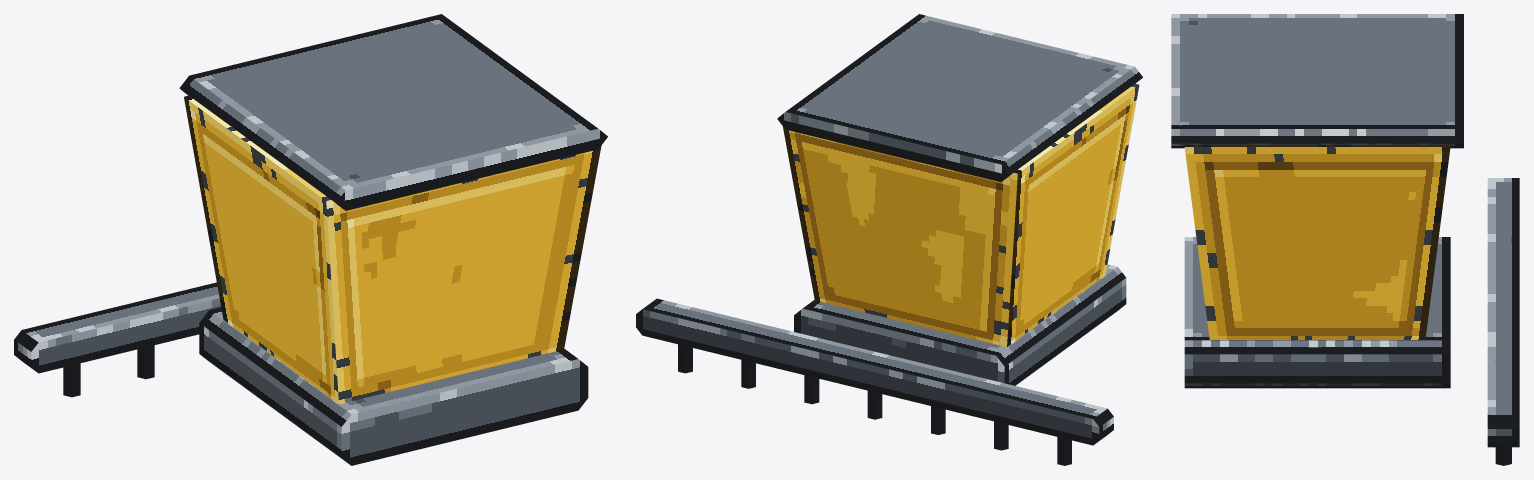
The model's file is cy_hopper.glb.
3 renders of one model, left to right at view 1: azimuth 30°, elevation 25°; view 2: azimuth 150°, elevation 25°; view 3: azimuth 270°, elevation 25°, orthographic. The views are drawn at different scales.
Visible parts, largest first — view 1: bin, lid, frame, boom; view 2: bin, lid, boom, frame; view 3: bin, lid, frame, boom.
Boxes of the visible parts, x1,y1,x2,y2 form: bin: (184,95,601,404); lid: (179,14,607,210); frame: (199,307,588,465); boom: (14,282,220,373); bin: (783,83,1139,346); lid: (777,14,1142,181); boom: (636,298,1113,445); frame: (794,264,1126,385); bin: (1184,144,1450,339); lid: (1171,14,1463,148); frame: (1184,237,1450,388); boom: (1487,178,1519,447).
Size of the model in its own units: 22 by 12 by 13.1.
Materials: 1 (1 with a texture image).
